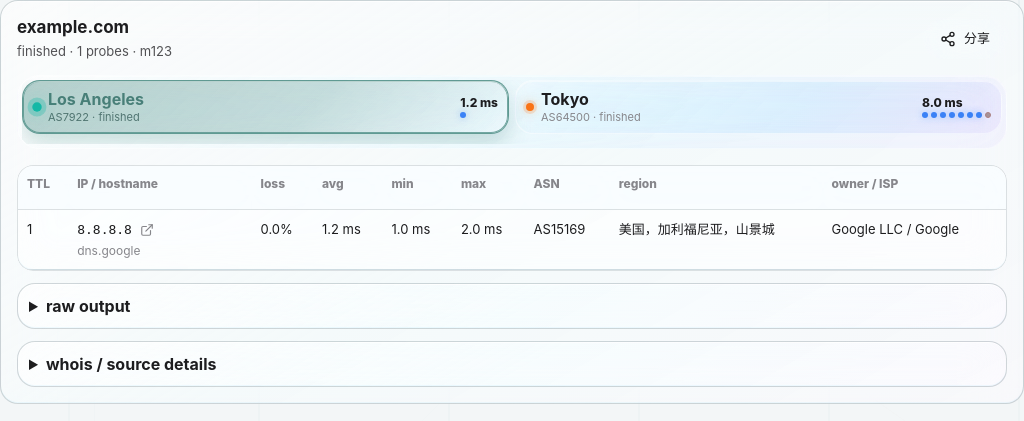
Test: ResultsView › switches between probe result tabs
Expected: the text "Los Angeles" is shown, x1=48 y1=89 x2=144 y2=109
Click the tab "Tokyo AS64500 · finished 8.0 ms" at (565, 99), box x1=516 y1=81 x2=1001 y2=133
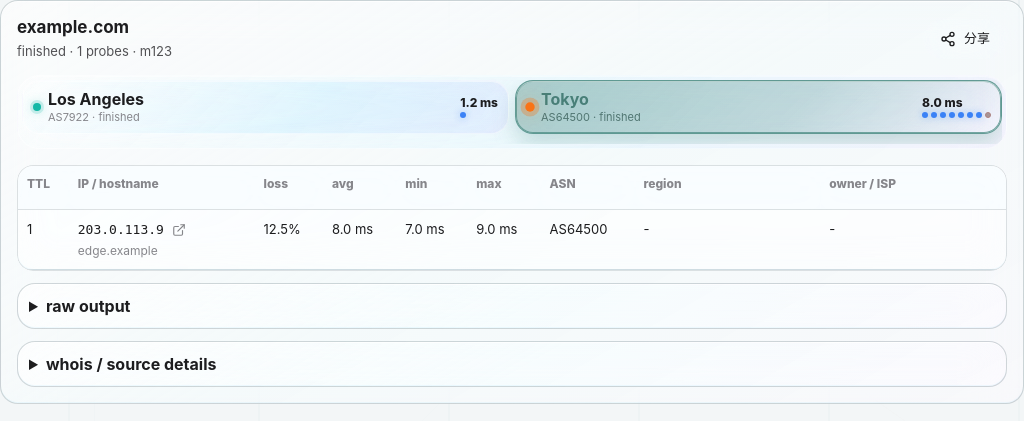
Expected: the text "203.0.113.9" is shown, x1=78 y1=221 x2=164 y2=239
Expected: the text "AS64500" is shown, x1=541 y1=210 x2=635 y2=270
